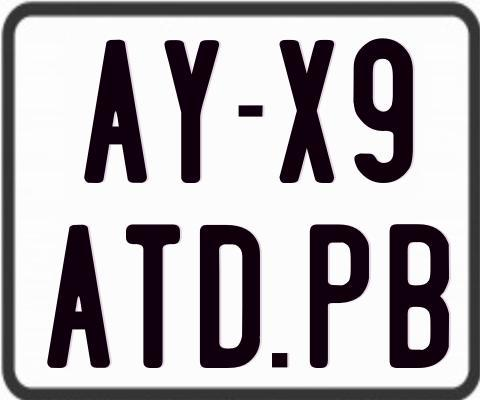9: (353, 36, 413, 186)
A: (46, 222, 111, 369), (82, 40, 145, 189)
B: (387, 222, 449, 371)
D: (200, 223, 261, 370)
P: (310, 222, 373, 371)
T: (123, 224, 177, 372)
X: (278, 38, 337, 186)
Y: (164, 38, 218, 182)
